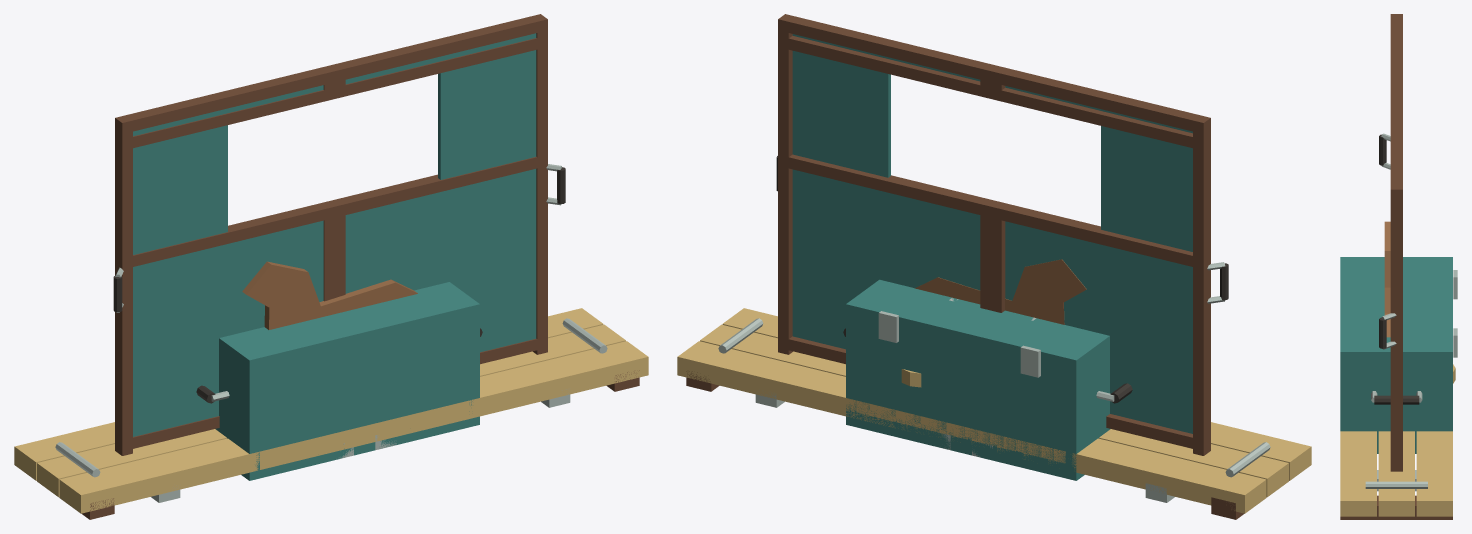
The model's file is expedition-kit-v3.glb.
The picture shows the model from 3 angles, left to right: view 1: azimuth 30°, elevation 25°; view 2: azimuth 150°, elevation 25°; view 3: azimuth 270°, elevation 25°; orthographic projection. The views are drawn at different scales.
Parts seen in each view (by area): view 1: PanelL, PanelR, Deck, Container, Lid, DecoySilhouette; view 2: PanelL, PanelR, Container, Deck, Lid, DecoySilhouette; view 3: Lid, Deck, Container, PanelR, PanelL, DecoySilhouette, HandleR, HandleR.001, HandleR.002, HandleL.002.
Boxes of the visible parts, box(x1,y1,x2,y2) form: PanelL: box(115, 66, 353, 502); PanelR: box(328, 14, 570, 450); Deck: box(14, 308, 648, 519); Container: box(215, 317, 479, 480); Lid: box(219, 282, 479, 373); DecoySilhouette: box(242, 261, 417, 329); PanelL: box(972, 66, 1210, 502); PanelR: box(755, 14, 997, 450); Container: box(846, 317, 1110, 480); Deck: box(677, 308, 1311, 519); Lid: box(846, 279, 1109, 377); DecoySilhouette: box(915, 259, 1086, 324); Lid: box(1340, 257, 1457, 362); Deck: box(1340, 431, 1452, 519); Container: box(1340, 363, 1452, 453); PanelR: box(1377, 102, 1416, 491); PanelL: box(1390, 14, 1402, 101); DecoySilhouette: box(1384, 221, 1390, 337); HandleR: box(1365, 481, 1427, 488); HandleR.001: box(1371, 391, 1422, 404); HandleR.002: box(1379, 313, 1396, 349); HandleL.002: box(1379, 133, 1390, 169).
Size of the model in its own units: 3.2 by 1.94 by 0.6755.
